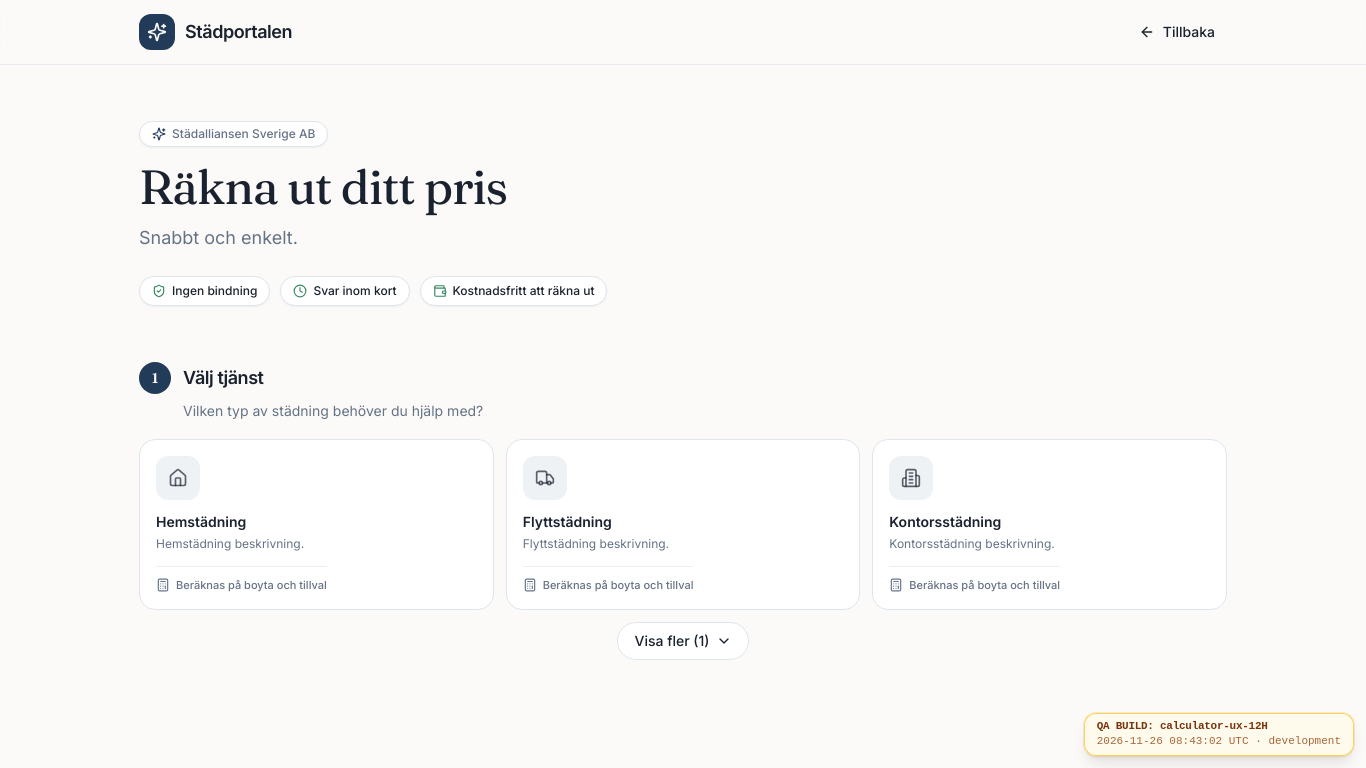
it: PriceCalculator — service display (Visa fler) › shows the first 3 services and hides the rest behind 'Visa fler'
Expected: the text "Hemstädning" is shown, [156,513,246,530]
Expected: the text "Flyttstädning" is shown, [523,513,612,530]
Click the button "Visa fler (1)" at [683, 641], box [618,622,748,660]
(page scrolled)
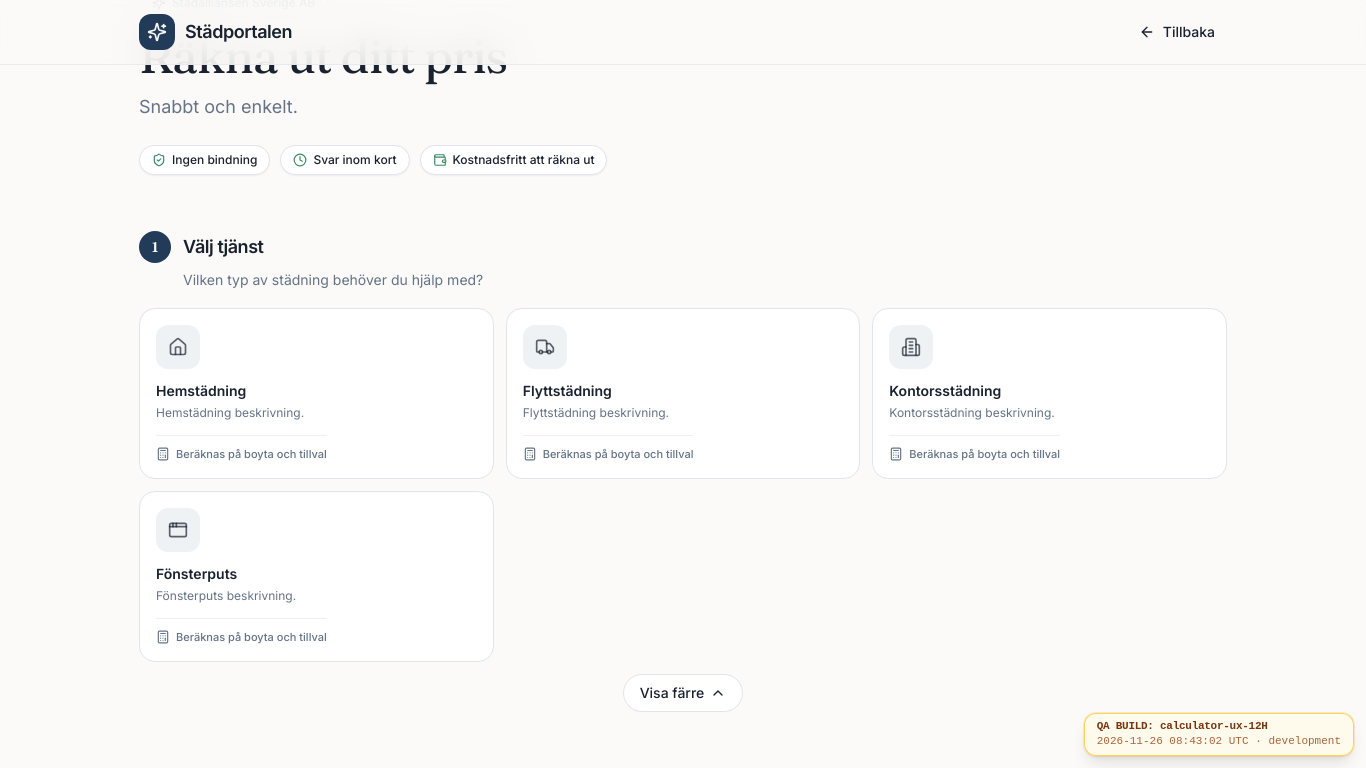
Result: the text "Fönsterputs" is shown at [156,565,237,582]
Result: the button "Visa färre" is shown at [623,674,743,712]
